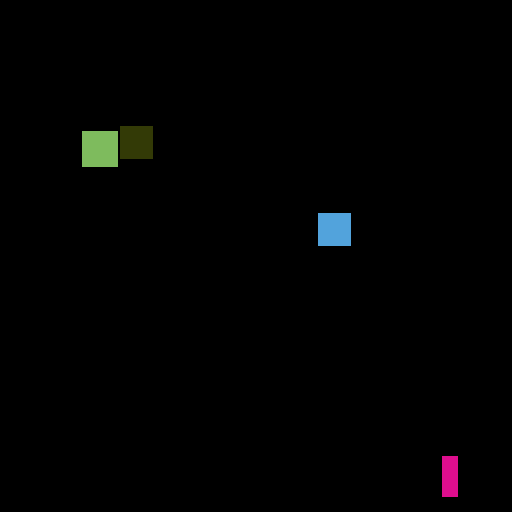square: (81, 130, 120, 167), (316, 212, 351, 244), (118, 127, 153, 159)
up_rect: (439, 454, 462, 500)
